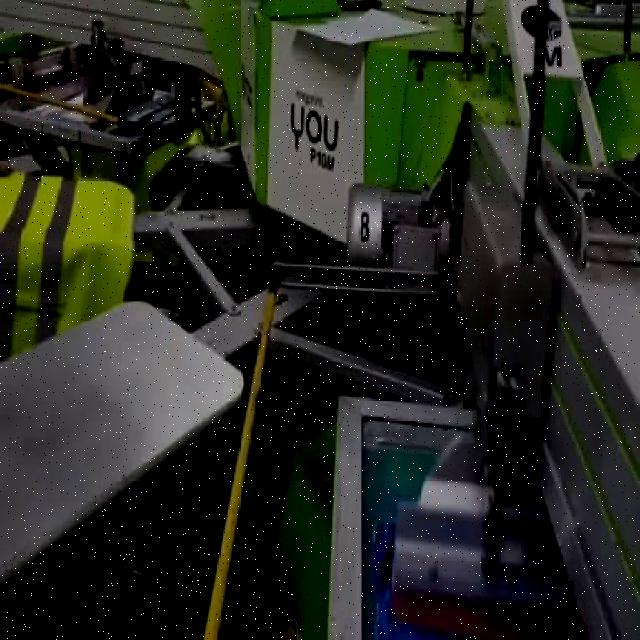Mask: (0, 170, 138, 366)
